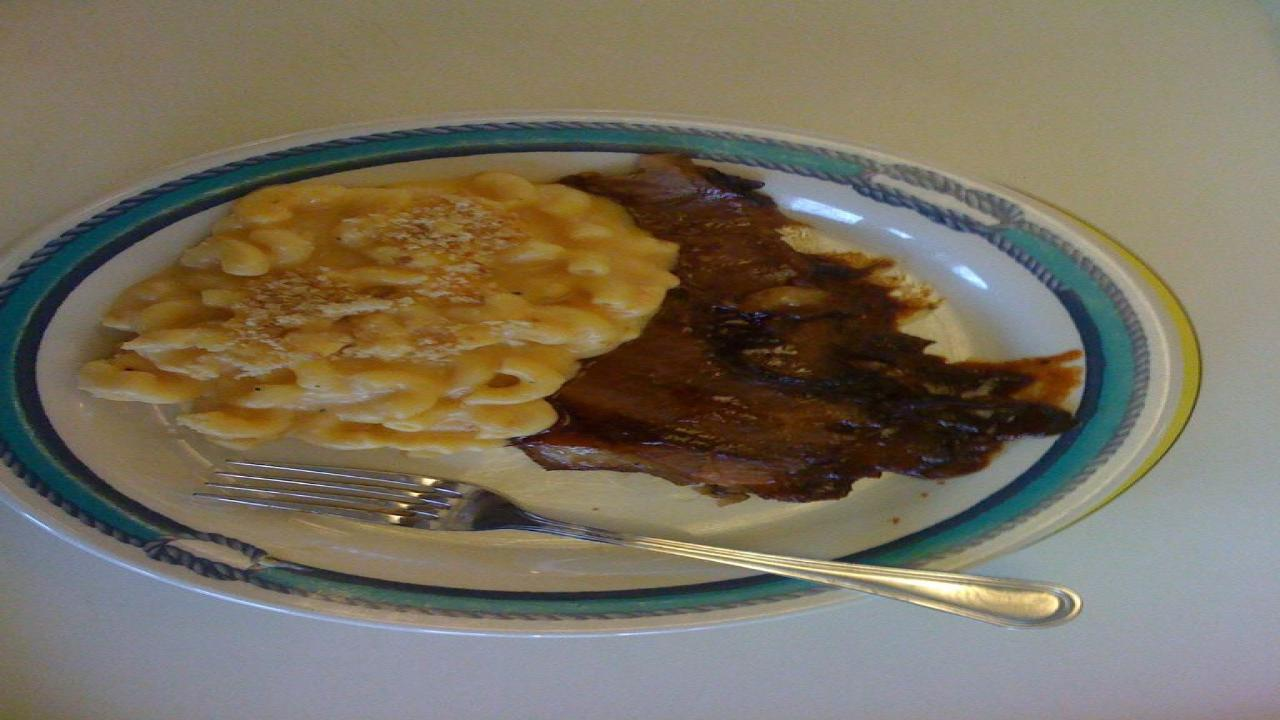fork: (178, 457, 1086, 633)
